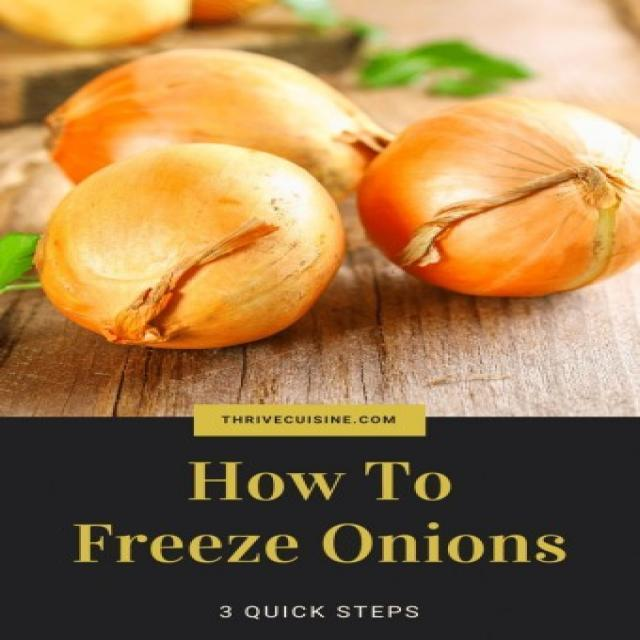Onion: (35, 140, 331, 362), (348, 100, 640, 295), (29, 31, 380, 193)
